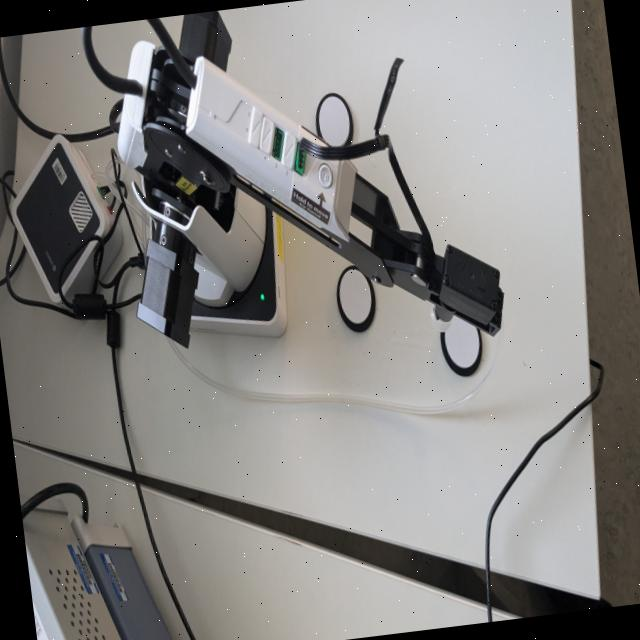Robot-end-effector-HF8z: (419, 227, 510, 347)
